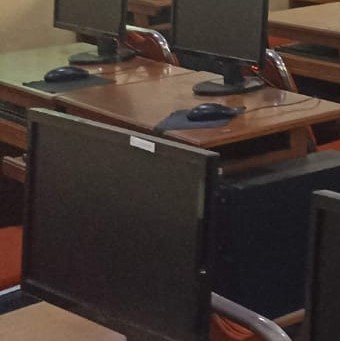monitor: (170, 0, 269, 94), (53, 0, 135, 65)
